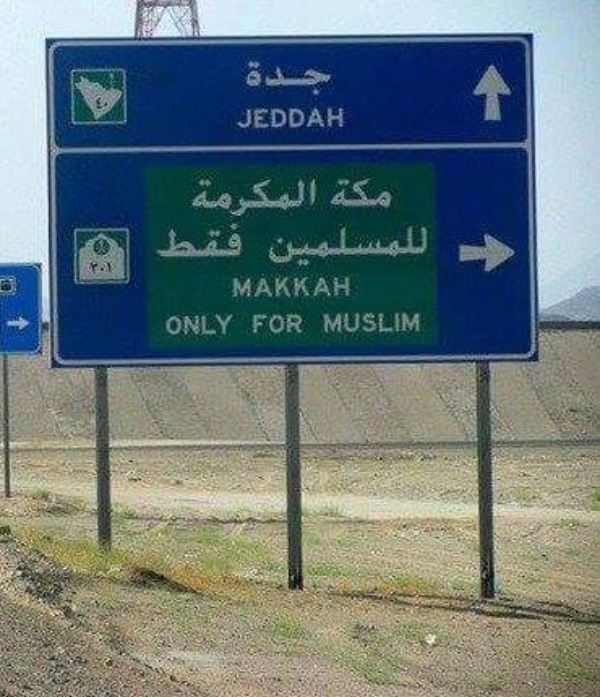text: (273, 226, 288, 270), (289, 226, 304, 270), (305, 226, 320, 270), (321, 226, 336, 270), (337, 226, 352, 270), (353, 226, 368, 270), (369, 226, 384, 270), (385, 226, 400, 270), (401, 226, 416, 270), (193, 176, 208, 218), (209, 176, 224, 218), (225, 176, 240, 218), (241, 176, 256, 218), (257, 176, 272, 218), (273, 176, 288, 218), (289, 176, 304, 218), (161, 223, 176, 260), (177, 223, 192, 260), (193, 223, 208, 260), (209, 223, 224, 260), (225, 223, 240, 260), (257, 60, 272, 96), (273, 60, 288, 96), (289, 60, 304, 96), (305, 60, 320, 96), (417, 226, 429, 270), (305, 176, 317, 218), (337, 177, 352, 208), (353, 177, 368, 208), (369, 177, 384, 208), (244, 60, 256, 96), (321, 60, 333, 96), (241, 276, 256, 300), (257, 276, 272, 300), (273, 276, 288, 300), (289, 276, 304, 300), (305, 276, 320, 300), (321, 276, 336, 300), (337, 276, 352, 300), (321, 310, 336, 334), (337, 310, 352, 334), (353, 310, 368, 334), (369, 310, 384, 334), (385, 310, 400, 334), (401, 310, 416, 334), (177, 313, 192, 336), (193, 313, 208, 336), (209, 313, 224, 336), (257, 312, 272, 334), (273, 312, 288, 334), (289, 312, 304, 334), (385, 177, 395, 208), (241, 109, 256, 129), (257, 109, 272, 129), (273, 109, 288, 129), (289, 109, 304, 129), (305, 109, 320, 129), (321, 109, 336, 129), (166, 313, 176, 336), (97, 260, 112, 274), (225, 313, 234, 336), (232, 276, 240, 300), (97, 95, 109, 111), (330, 177, 336, 208), (155, 223, 160, 260), (337, 109, 346, 129), (268, 226, 272, 270), (417, 310, 424, 334), (241, 223, 245, 260), (250, 312, 256, 334), (189, 176, 192, 218), (236, 109, 240, 129), (91, 260, 96, 274), (95, 95, 96, 111), (113, 260, 114, 274)
